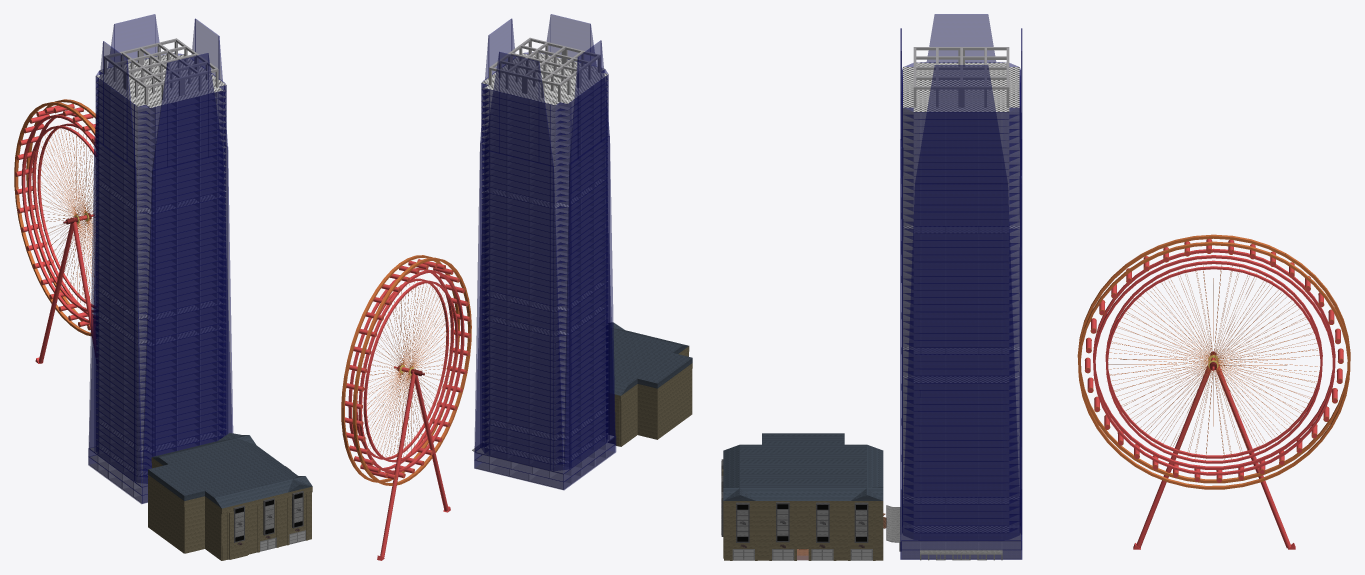
Rendered from zonas-casino.glb.
3 renders of one model, left to right at view 1: azimuth 30°, elevation 25°; view 2: azimuth 150°, elevation 25°; view 3: azimuth 270°, elevation 25°, orthographic. The views are drawn at different scales.
Parts seen in each view (by area): view 1: modelo; view 2: modelo; view 3: modelo.
Boxes of the visible parts, x1,y1,x2,y2 form: modelo: [14, 14, 312, 560]; modelo: [341, 14, 692, 560]; modelo: [721, 14, 1350, 560].
Bounding box in the file's own units: 12.17 × 41.7 × 48.
32 materials, 29 textured.
